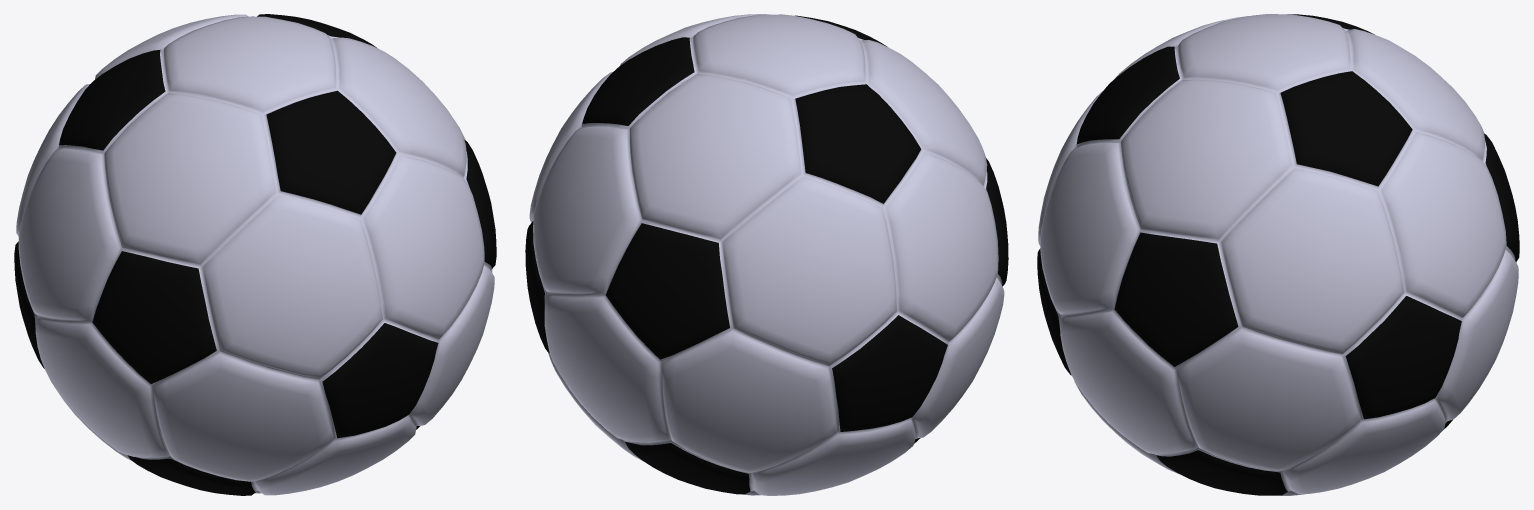
The model's file is ball.obj.
The picture shows the model from 3 angles, left to right: view 1: azimuth 30°, elevation 25°; view 2: azimuth 150°, elevation 25°; view 3: azimuth 270°, elevation 25°; orthographic projection.
Parts seen in each view (by area): view 1: Icosphere; view 2: Icosphere; view 3: Icosphere.
Part boxes in pixels (x1,y1,x2,y2): Icosphere: (14, 14, 496, 495); Icosphere: (525, 14, 1008, 495); Icosphere: (1037, 14, 1519, 495).
Bounding box in the file's own units: 0.001 × 0.001 × 0.001.
